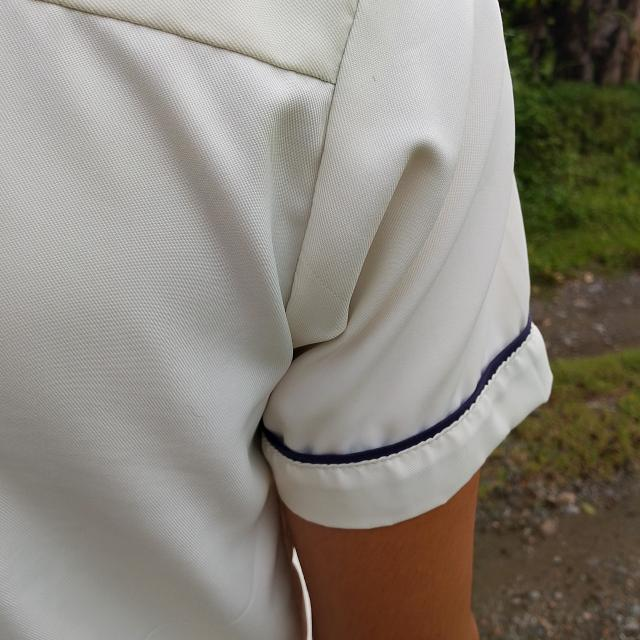education_male_uniform: (0, 6, 582, 550)
